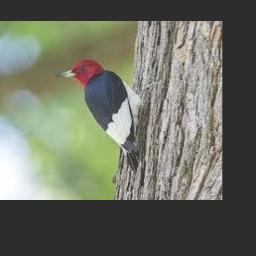Woodpecker: (56, 59, 155, 171)
